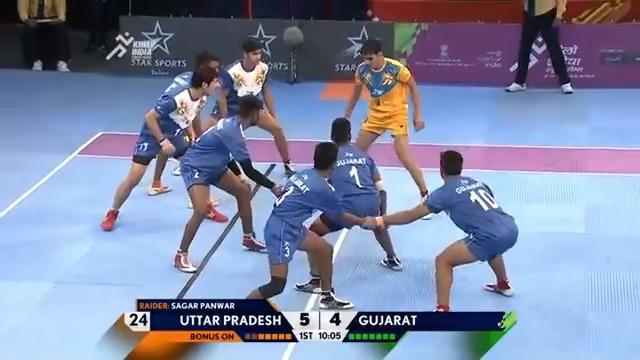Player: (362, 149, 519, 312), (243, 140, 388, 310), (100, 64, 224, 231), (172, 93, 286, 272), (204, 38, 290, 201), (504, 0, 574, 94)
Raider: (342, 38, 432, 218)
referee: (16, 0, 71, 72), (83, 0, 110, 53)
